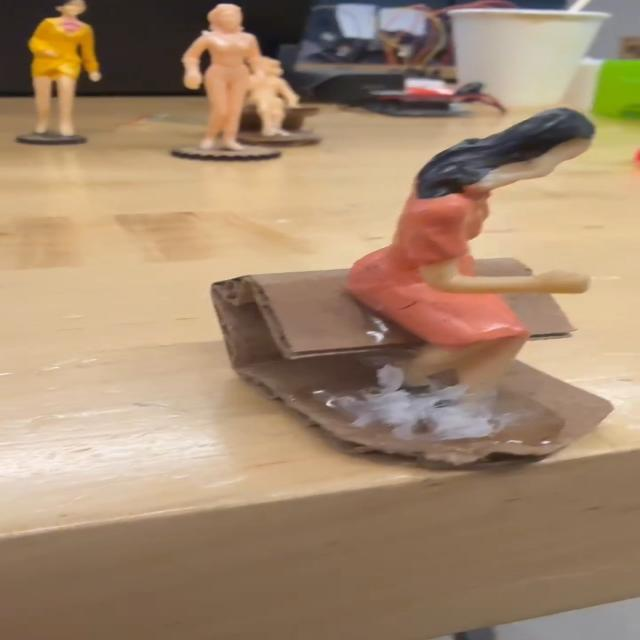Authorized: (348, 78, 602, 446)
